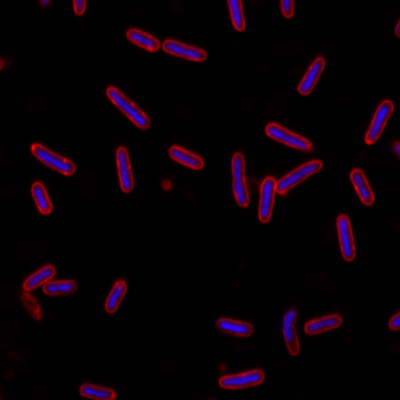Oblique: (279, 304, 301, 357)
Rifampicin: (104, 84, 153, 133), (273, 158, 325, 195), (361, 98, 396, 147), (264, 120, 314, 154), (29, 141, 76, 176), (160, 36, 209, 65), (229, 149, 251, 209), (298, 55, 328, 97), (166, 141, 204, 171), (348, 166, 375, 206), (334, 212, 356, 261), (218, 368, 267, 390), (114, 145, 136, 194), (102, 277, 128, 317), (29, 180, 55, 218), (214, 314, 254, 338), (257, 175, 277, 223), (301, 314, 343, 336), (125, 26, 160, 52), (22, 264, 56, 290), (77, 381, 119, 400), (44, 278, 79, 297)
Vesicle: (160, 178, 174, 192)
